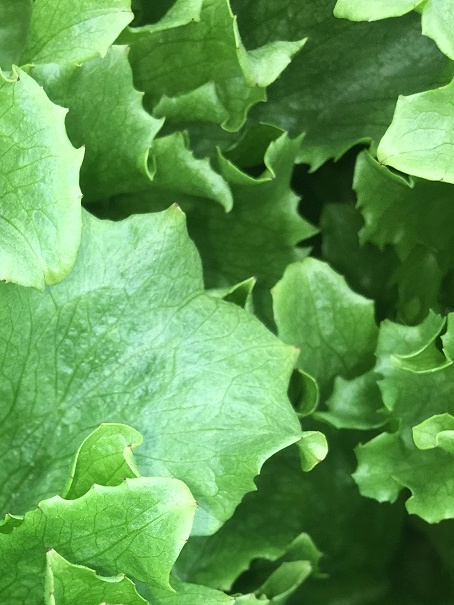tipburn: (165, 199, 187, 219), (187, 497, 205, 515), (118, 440, 137, 457), (10, 67, 27, 85), (289, 341, 306, 358), (177, 532, 193, 549), (40, 542, 58, 557), (376, 154, 392, 169), (1, 274, 16, 289), (232, 40, 246, 55), (44, 585, 59, 599)
